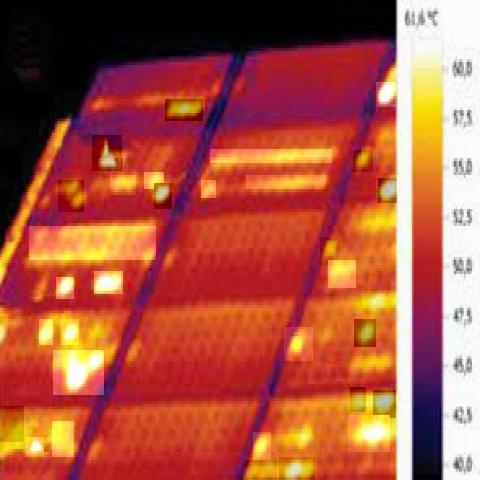fault: (29, 226, 156, 260), (53, 350, 104, 395), (210, 150, 332, 164), (348, 415, 390, 452), (246, 175, 326, 189), (92, 135, 122, 171), (284, 328, 313, 361), (279, 426, 313, 452), (0, 406, 24, 442), (165, 99, 203, 121), (58, 180, 84, 212), (279, 457, 315, 480), (52, 421, 74, 457), (328, 260, 356, 288), (94, 271, 123, 294), (373, 390, 396, 418), (245, 460, 277, 480), (354, 319, 376, 347), (358, 296, 391, 314), (320, 237, 340, 266), (110, 175, 136, 195), (253, 432, 271, 460), (376, 82, 396, 107), (60, 319, 79, 345), (378, 178, 397, 203), (154, 183, 172, 209), (353, 150, 373, 172), (350, 387, 366, 412), (56, 277, 74, 299), (26, 437, 44, 458), (39, 319, 53, 345), (144, 172, 164, 189), (201, 180, 216, 198)
